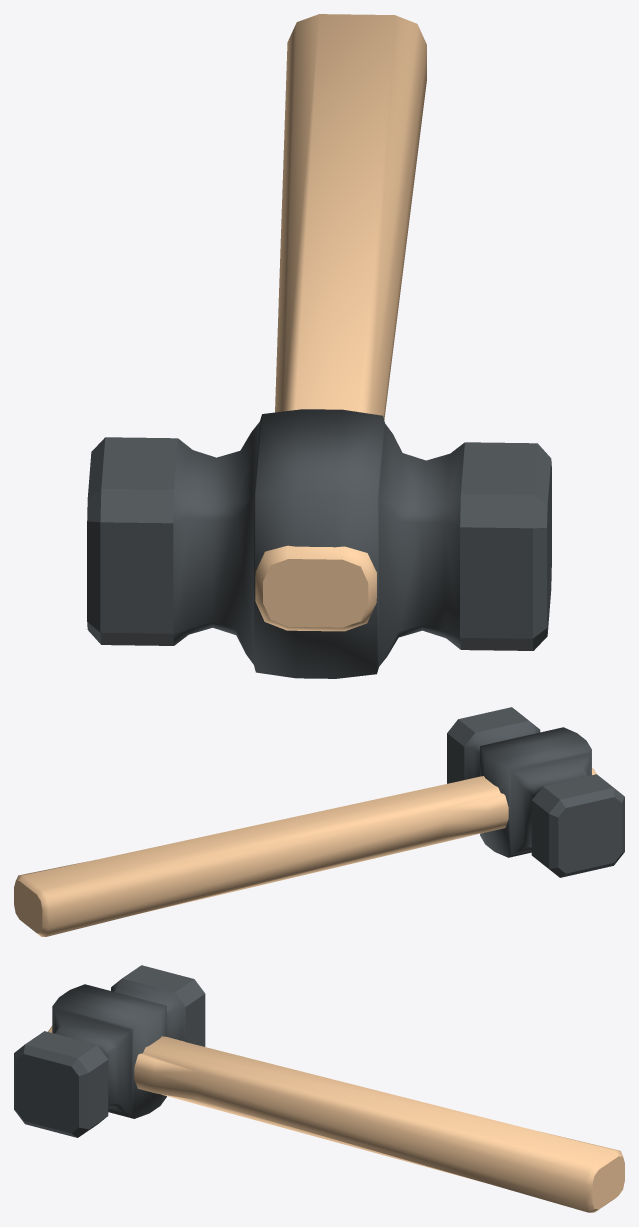
Rendered from Toy25.fbx.
3 renders of one model, top to bottom at view 1: azimuth 30°, elevation 25°; view 2: azimuth 150°, elevation 25°; view 3: azimuth 270°, elevation 25°, orthographic. The views are drawn at different scales.
Visible parts, largest first — view 1: Toy25; view 2: Toy25; view 3: Toy25.
Boxes of the visible parts, x1=… form: Toy25: x1=87, y1=14, x2=551, y2=678; Toy25: x1=14, y1=707, x2=624, y2=936; Toy25: x1=14, y1=965, x2=624, y2=1212.
Bounding box in the file's own units: 0.2335 × 0.0521 × 0.312.
